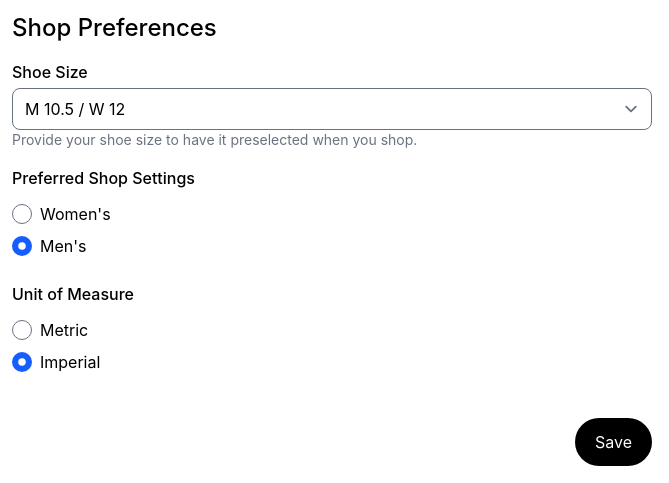
disables the Save button while the update is in flight
Check: the radio button labelled "Women's" is shown, box left=12, top=204, right=32, bottom=224
Click the button "Save" at {"x": 614, "y": 442}, box left=575, top=418, right=652, bottom=466
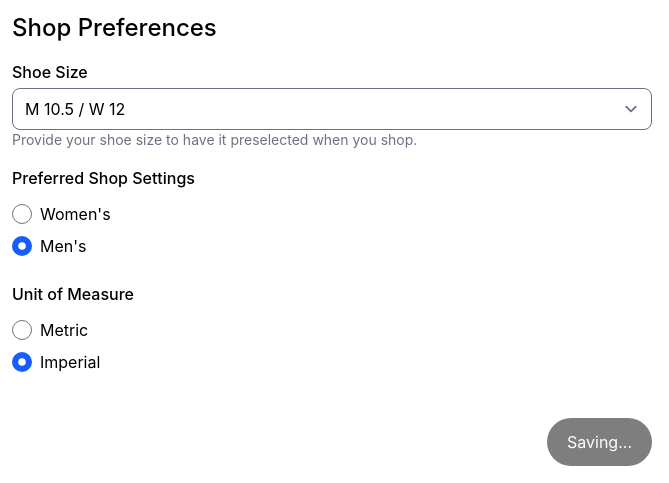
Check: the button "Saving..." is disabled, box left=547, top=418, right=652, bottom=466
